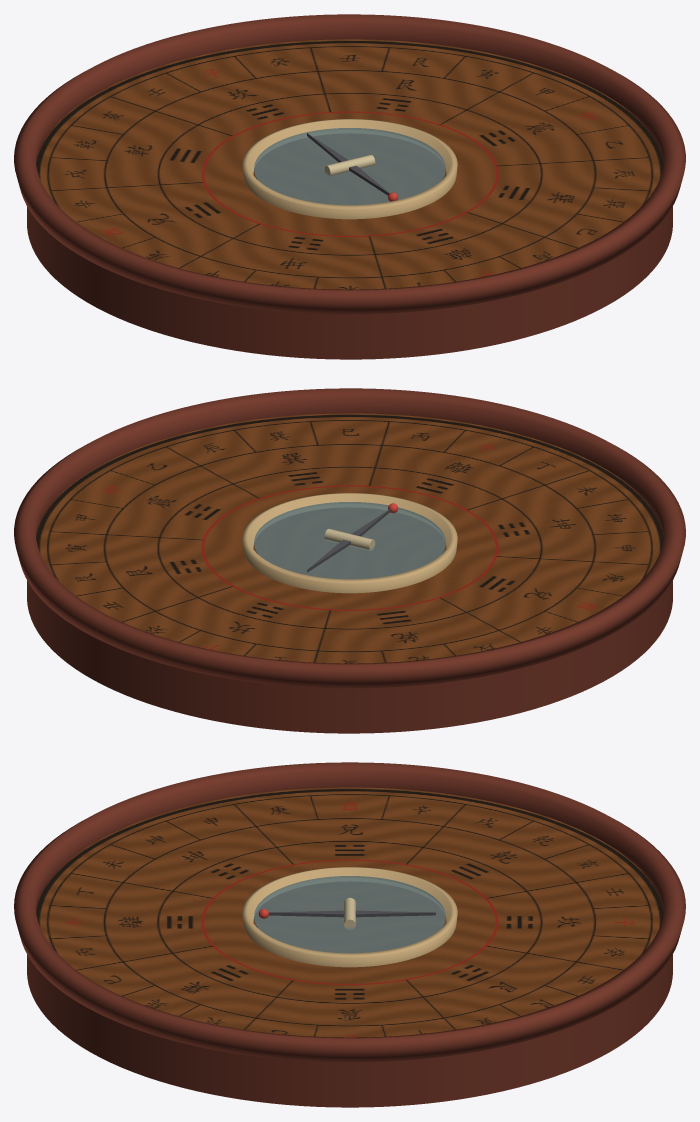
Rendered from water_compass.glb.
The picture shows the model from 3 angles, top to bottom: view 1: azimuth 30°, elevation 25°; view 2: azimuth 150°, elevation 25°; view 3: azimuth 270°, elevation 25°; orthographic projection.
Parts seen in each view (by area): view 1: compass_face, compass_rim, compass_body, compass_water, compass_bowl, compass_reed, compass_needle; view 2: compass_face, compass_rim, compass_body, compass_water, compass_bowl, compass_reed, compass_needle; view 3: compass_face, compass_rim, compass_body, compass_water, compass_bowl, compass_needle.
Part boxes in pixels (bbox=[...]): compass_face: bbox=[36, 39, 663, 289]; compass_rim: bbox=[14, 14, 685, 314]; compass_body: bbox=[27, 206, 672, 359]; compass_water: bbox=[254, 128, 445, 205]; compass_bowl: bbox=[242, 119, 457, 219]; compass_reed: bbox=[324, 155, 375, 176]; compass_needle: bbox=[307, 133, 389, 195]; compass_face: bbox=[36, 413, 663, 663]; compass_rim: bbox=[14, 388, 685, 688]; compass_body: bbox=[27, 580, 672, 733]; compass_water: bbox=[254, 502, 445, 579]; compass_bowl: bbox=[242, 493, 457, 593]; compass_reed: bbox=[324, 529, 375, 550]; compass_needle: bbox=[307, 508, 390, 572]; compass_face: bbox=[36, 787, 663, 1037]; compass_rim: bbox=[14, 762, 685, 1062]; compass_body: bbox=[27, 954, 672, 1107]; compass_water: bbox=[254, 876, 445, 953]; compass_bowl: bbox=[242, 867, 457, 967]; compass_needle: bbox=[268, 910, 435, 917].
Bounding box in the file's own units: 0.312 × 0.036 × 0.312.
7 materials, 1 textured.
